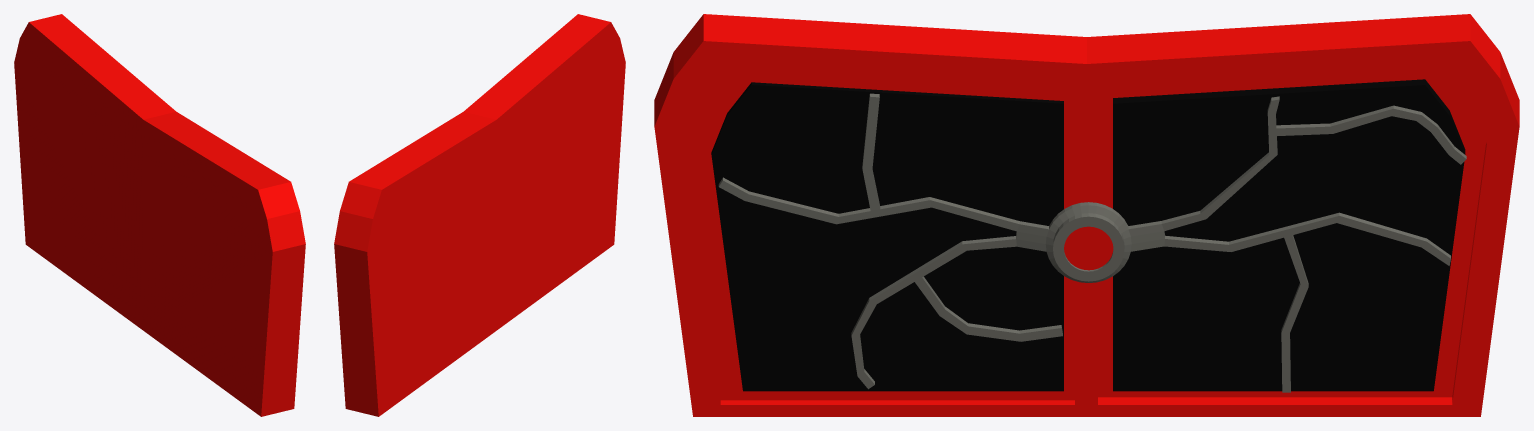
Rendered from Puera Principal.fbx.
The picture shows the model from 3 angles, left to right: view 1: azimuth 30°, elevation 25°; view 2: azimuth 150°, elevation 25°; view 3: azimuth 270°, elevation 25°; orthographic projection. The views are drawn at different scales.
Parts seen in each view (by area): view 1: Cube; view 2: Cube; view 3: Cube.
Part boxes in pixels (x1,y1,x2,y2): Cube: (14,14,305,416); Cube: (334,14,625,416); Cube: (654,14,1519,416).
Bounding box in the file's own units: 43.26 × 213 × 444.
